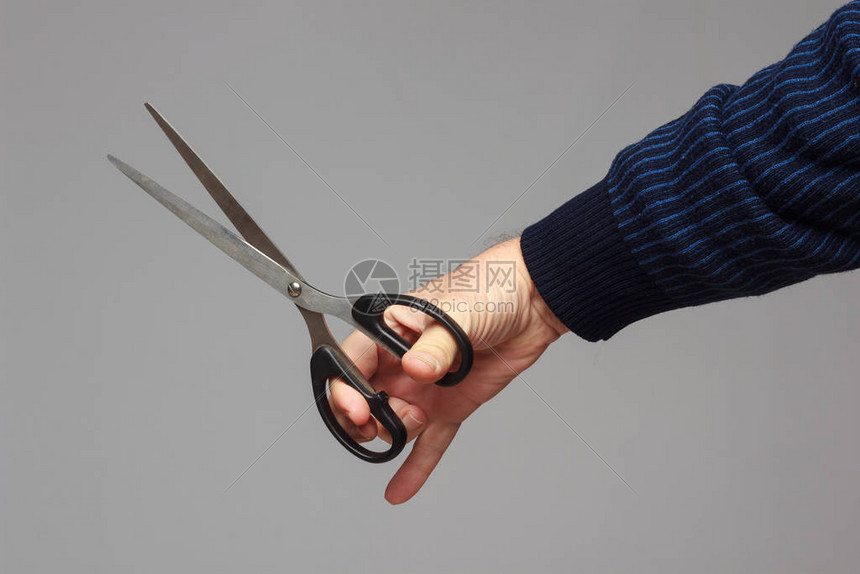scissors: (86, 97, 480, 470)
